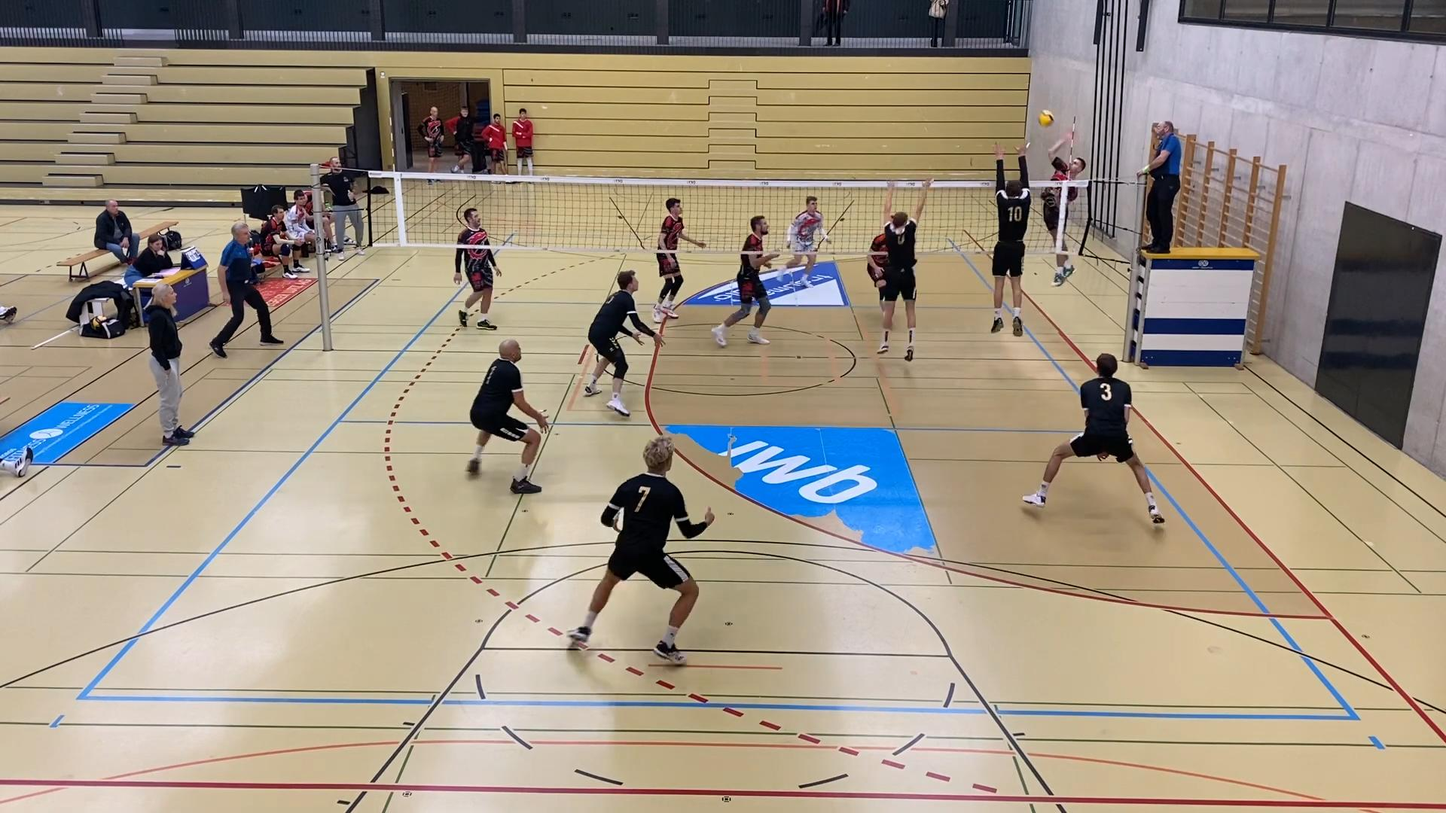Attack: (1039, 122, 1091, 291)
Block: (880, 177, 931, 358), (993, 140, 1031, 339)
Player: (569, 436, 714, 664), (1023, 354, 1164, 523), (466, 339, 548, 493), (584, 270, 663, 416), (711, 215, 779, 346), (653, 198, 705, 322), (453, 208, 499, 330), (786, 196, 826, 286), (867, 231, 888, 313)
ball: (1037, 107, 1056, 128)
